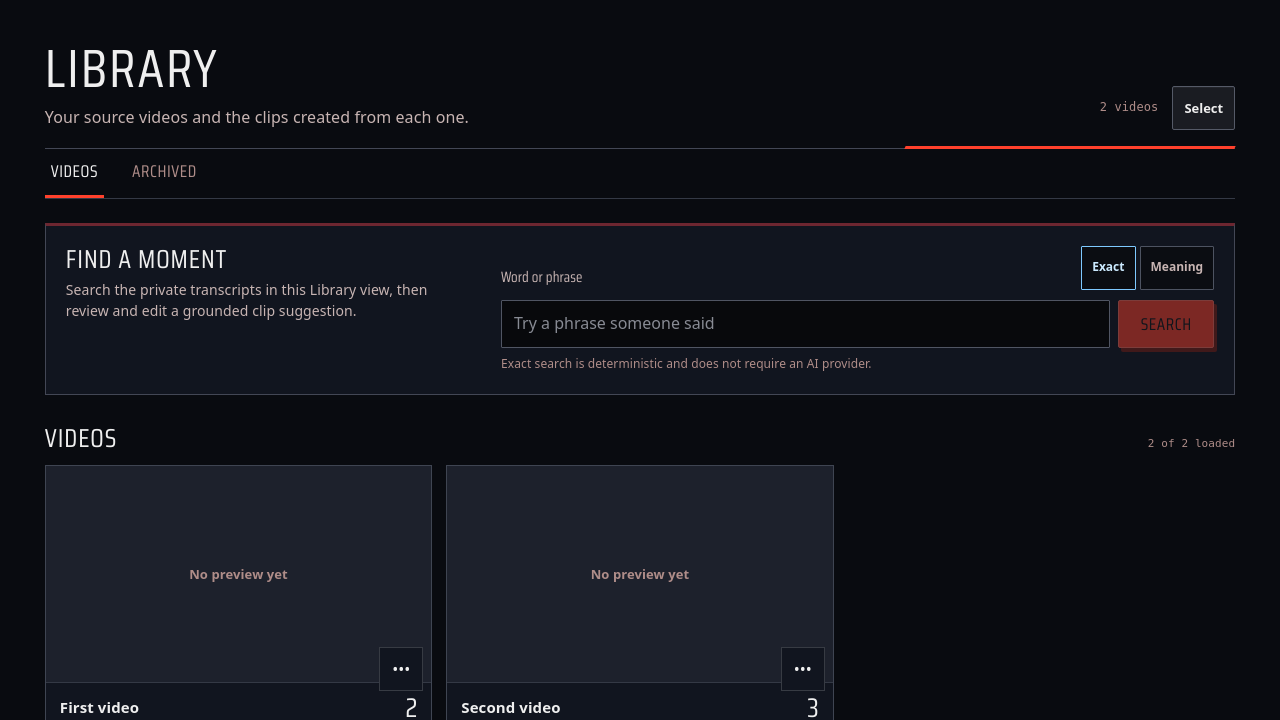
Test: Library video actions › keeps Exact available when optional Meaning search reports an outage
The image size is (1280, 720).
Check: the heading "First video" is shown, box x1=60 y1=697 x2=139 y2=717
Click the radio button labelled "Meaning". click: x=1177, y=268
box: x1=1140 y1=246 x2=1214 y2=290
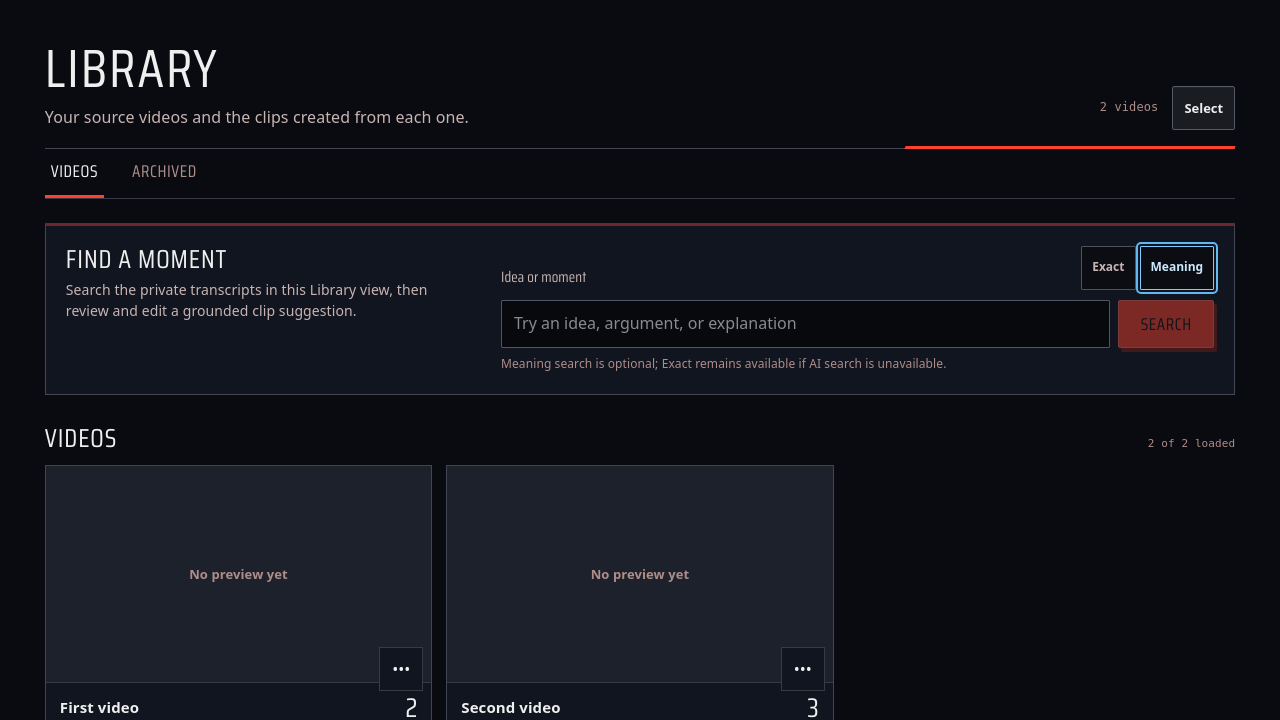
Type "trustworthy design" into the search field labelled "Idea or moment". click: x=806, y=324
box: x1=501 y1=300 x2=1110 y2=348
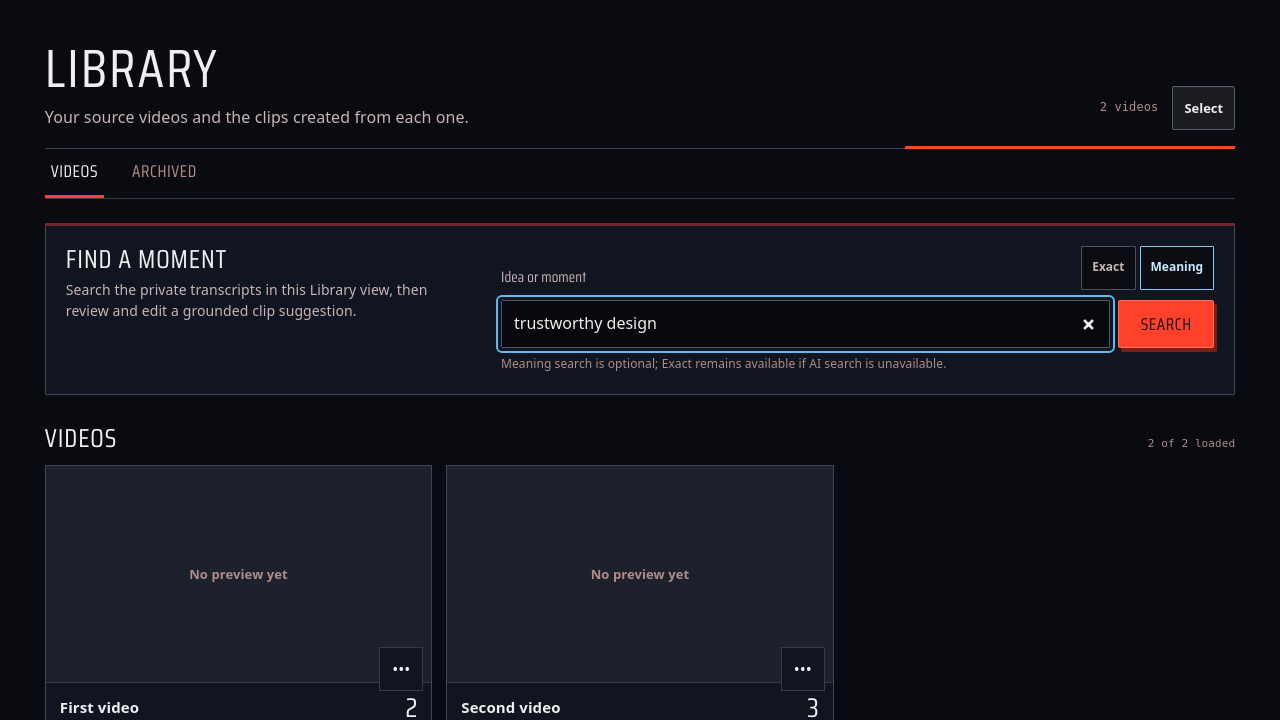
Click the button "Search". click: x=1166, y=324
box: x1=1118 y1=300 x2=1214 y2=348
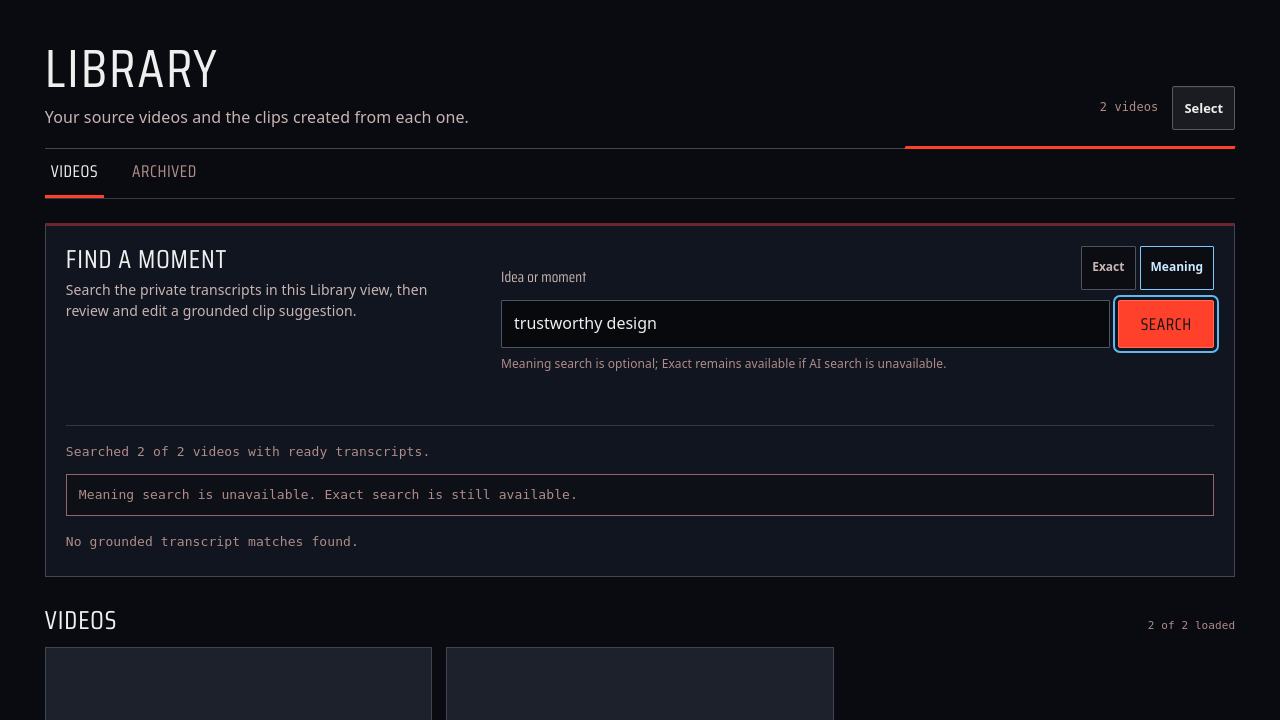
Check: the radio button labelled "Exact" is shown, box x1=1081 y1=246 x2=1136 y2=290
Check: the message shows "Exact search is still available", box x1=79 y1=487 x2=578 y2=502
